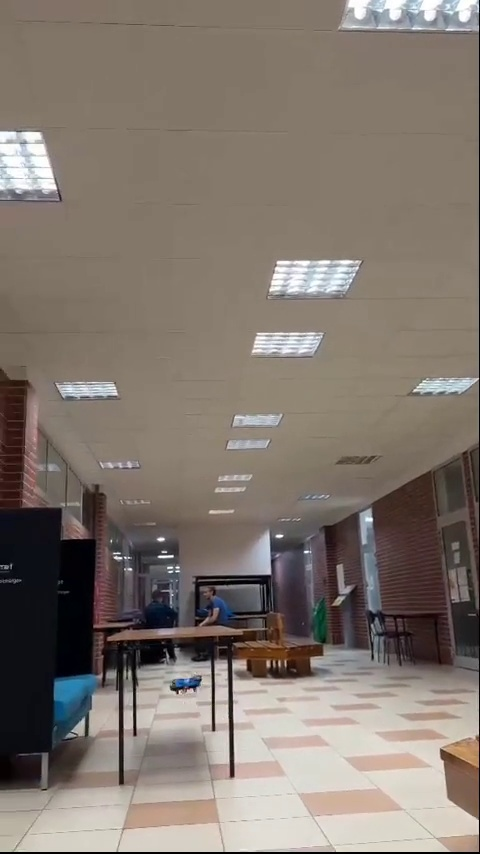drone: (171, 676, 202, 692)
no vest: (196, 583, 231, 626), (146, 589, 176, 629)
